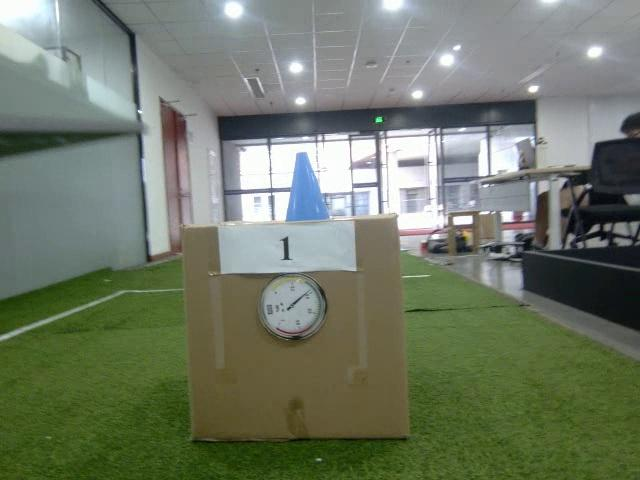1: (276, 234, 295, 263)
Dashboard: (258, 273, 327, 342)
blue_barrel: (285, 152, 330, 222)
ssi: (266, 304, 273, 314)
